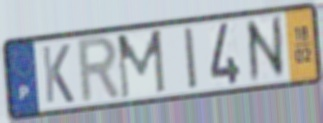4: (208, 20, 242, 88)
I: (182, 25, 200, 93)
K: (39, 43, 76, 106)
M: (115, 27, 168, 102)
N: (243, 13, 289, 87)
R: (76, 34, 124, 107)
